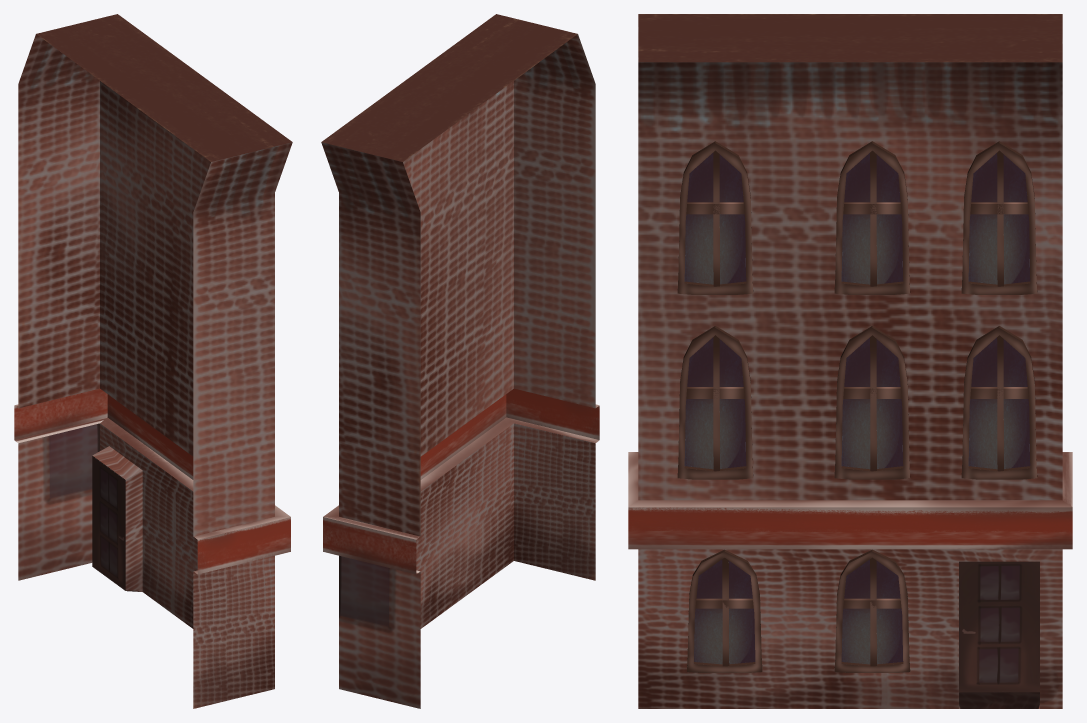
Rendered from HouseWalls.fbx.
3 views of the same model, side by side, from view 1: azimuth 30°, elevation 25°; view 2: azimuth 150°, elevation 25°; view 3: azimuth 270°, elevation 25° (orthographic). The views are drawn at different scales.
Visible parts, largest first — view 1: grrr:window1_initialShadingGroup; view 2: grrr:window1_initialShadingGroup; view 3: grrr:window1_initialShadingGroup.
Part boxes in pixels (left/top/right/bottom): grrr:window1_initialShadingGroup: left=14, top=14, right=292, bottom=708; grrr:window1_initialShadingGroup: left=321, top=14, right=599, bottom=708; grrr:window1_initialShadingGroup: left=628, top=14, right=1072, bottom=708.
Size of the model in its own units: 0.6053 by 3.16 by 1.94.
